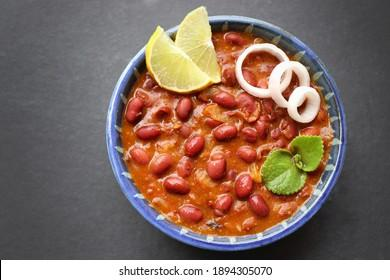rajma: (125, 92, 331, 237)
